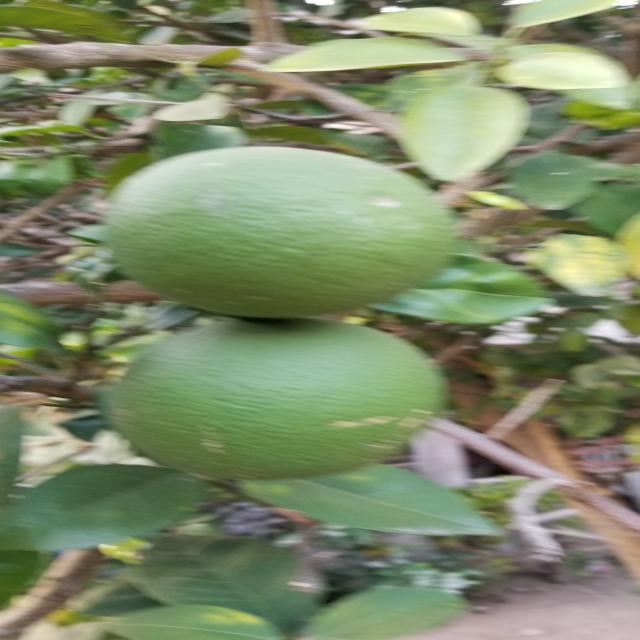Unripe: (91, 144, 454, 320), (105, 308, 444, 479)
